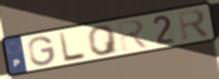2: (152, 14, 176, 46)
G: (27, 35, 57, 68)
L: (57, 31, 88, 64)
Q: (86, 23, 121, 57)
R: (115, 18, 151, 53), (176, 8, 212, 43)
